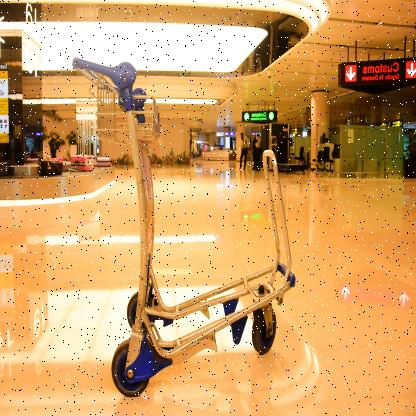airport-trolley: (70, 52, 296, 406)
